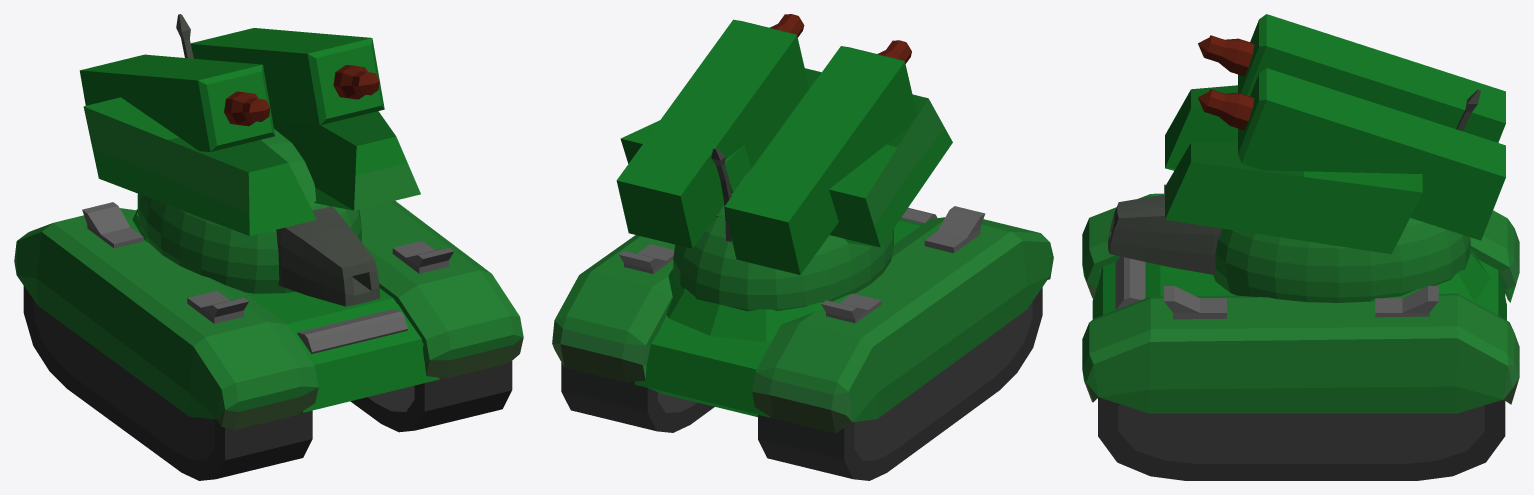
Rendered from minitank-v7.fbx.
3 renders of one model, left to right at view 1: azimuth 30°, elevation 25°; view 2: azimuth 150°, elevation 25°; view 3: azimuth 270°, elevation 25°, orthographic. The views are drawn at different scales.
Parts seen in each view (by area): view 1: body-right, missile launcher, ballistic, cannon, body-left, treads, body-center, treads.001; view 2: ballistic, body-right, treads, body-left, cannon, missile launcher, body-center, treads.001; view 3: body-left, ballistic, treads.001, missile launcher, cannon, body-center, body-right.
Part boxes in pixels (x1,y1,x2,y2): body-right: [14, 202, 318, 430]; missile launcher: [83, 97, 420, 235]; ballistic: [79, 28, 384, 242]; cannon: [137, 14, 380, 306]; body-left: [359, 201, 523, 378]; treads: [23, 286, 312, 480]; body-center: [245, 288, 439, 413]; treads.001: [350, 361, 512, 432]; ballistic: [616, 14, 916, 342]; body-right: [752, 206, 1053, 433]; treads: [758, 287, 1042, 480]; body-left: [552, 235, 674, 382]; cannon: [673, 148, 893, 311]; missile launcher: [620, 68, 952, 247]; body-center: [634, 207, 937, 417]; treads.001: [561, 362, 714, 432]; body-left: [1082, 286, 1519, 413]; ballistic: [1198, 14, 1505, 302]; treads.001: [1098, 397, 1505, 480]; missile launcher: [1165, 85, 1422, 254]; cannon: [1108, 89, 1480, 302]; body-center: [1092, 256, 1506, 320]; body-right: [1082, 184, 1519, 302].
Bounding box in the file's own units: 1804 × 1953 × 2191.
